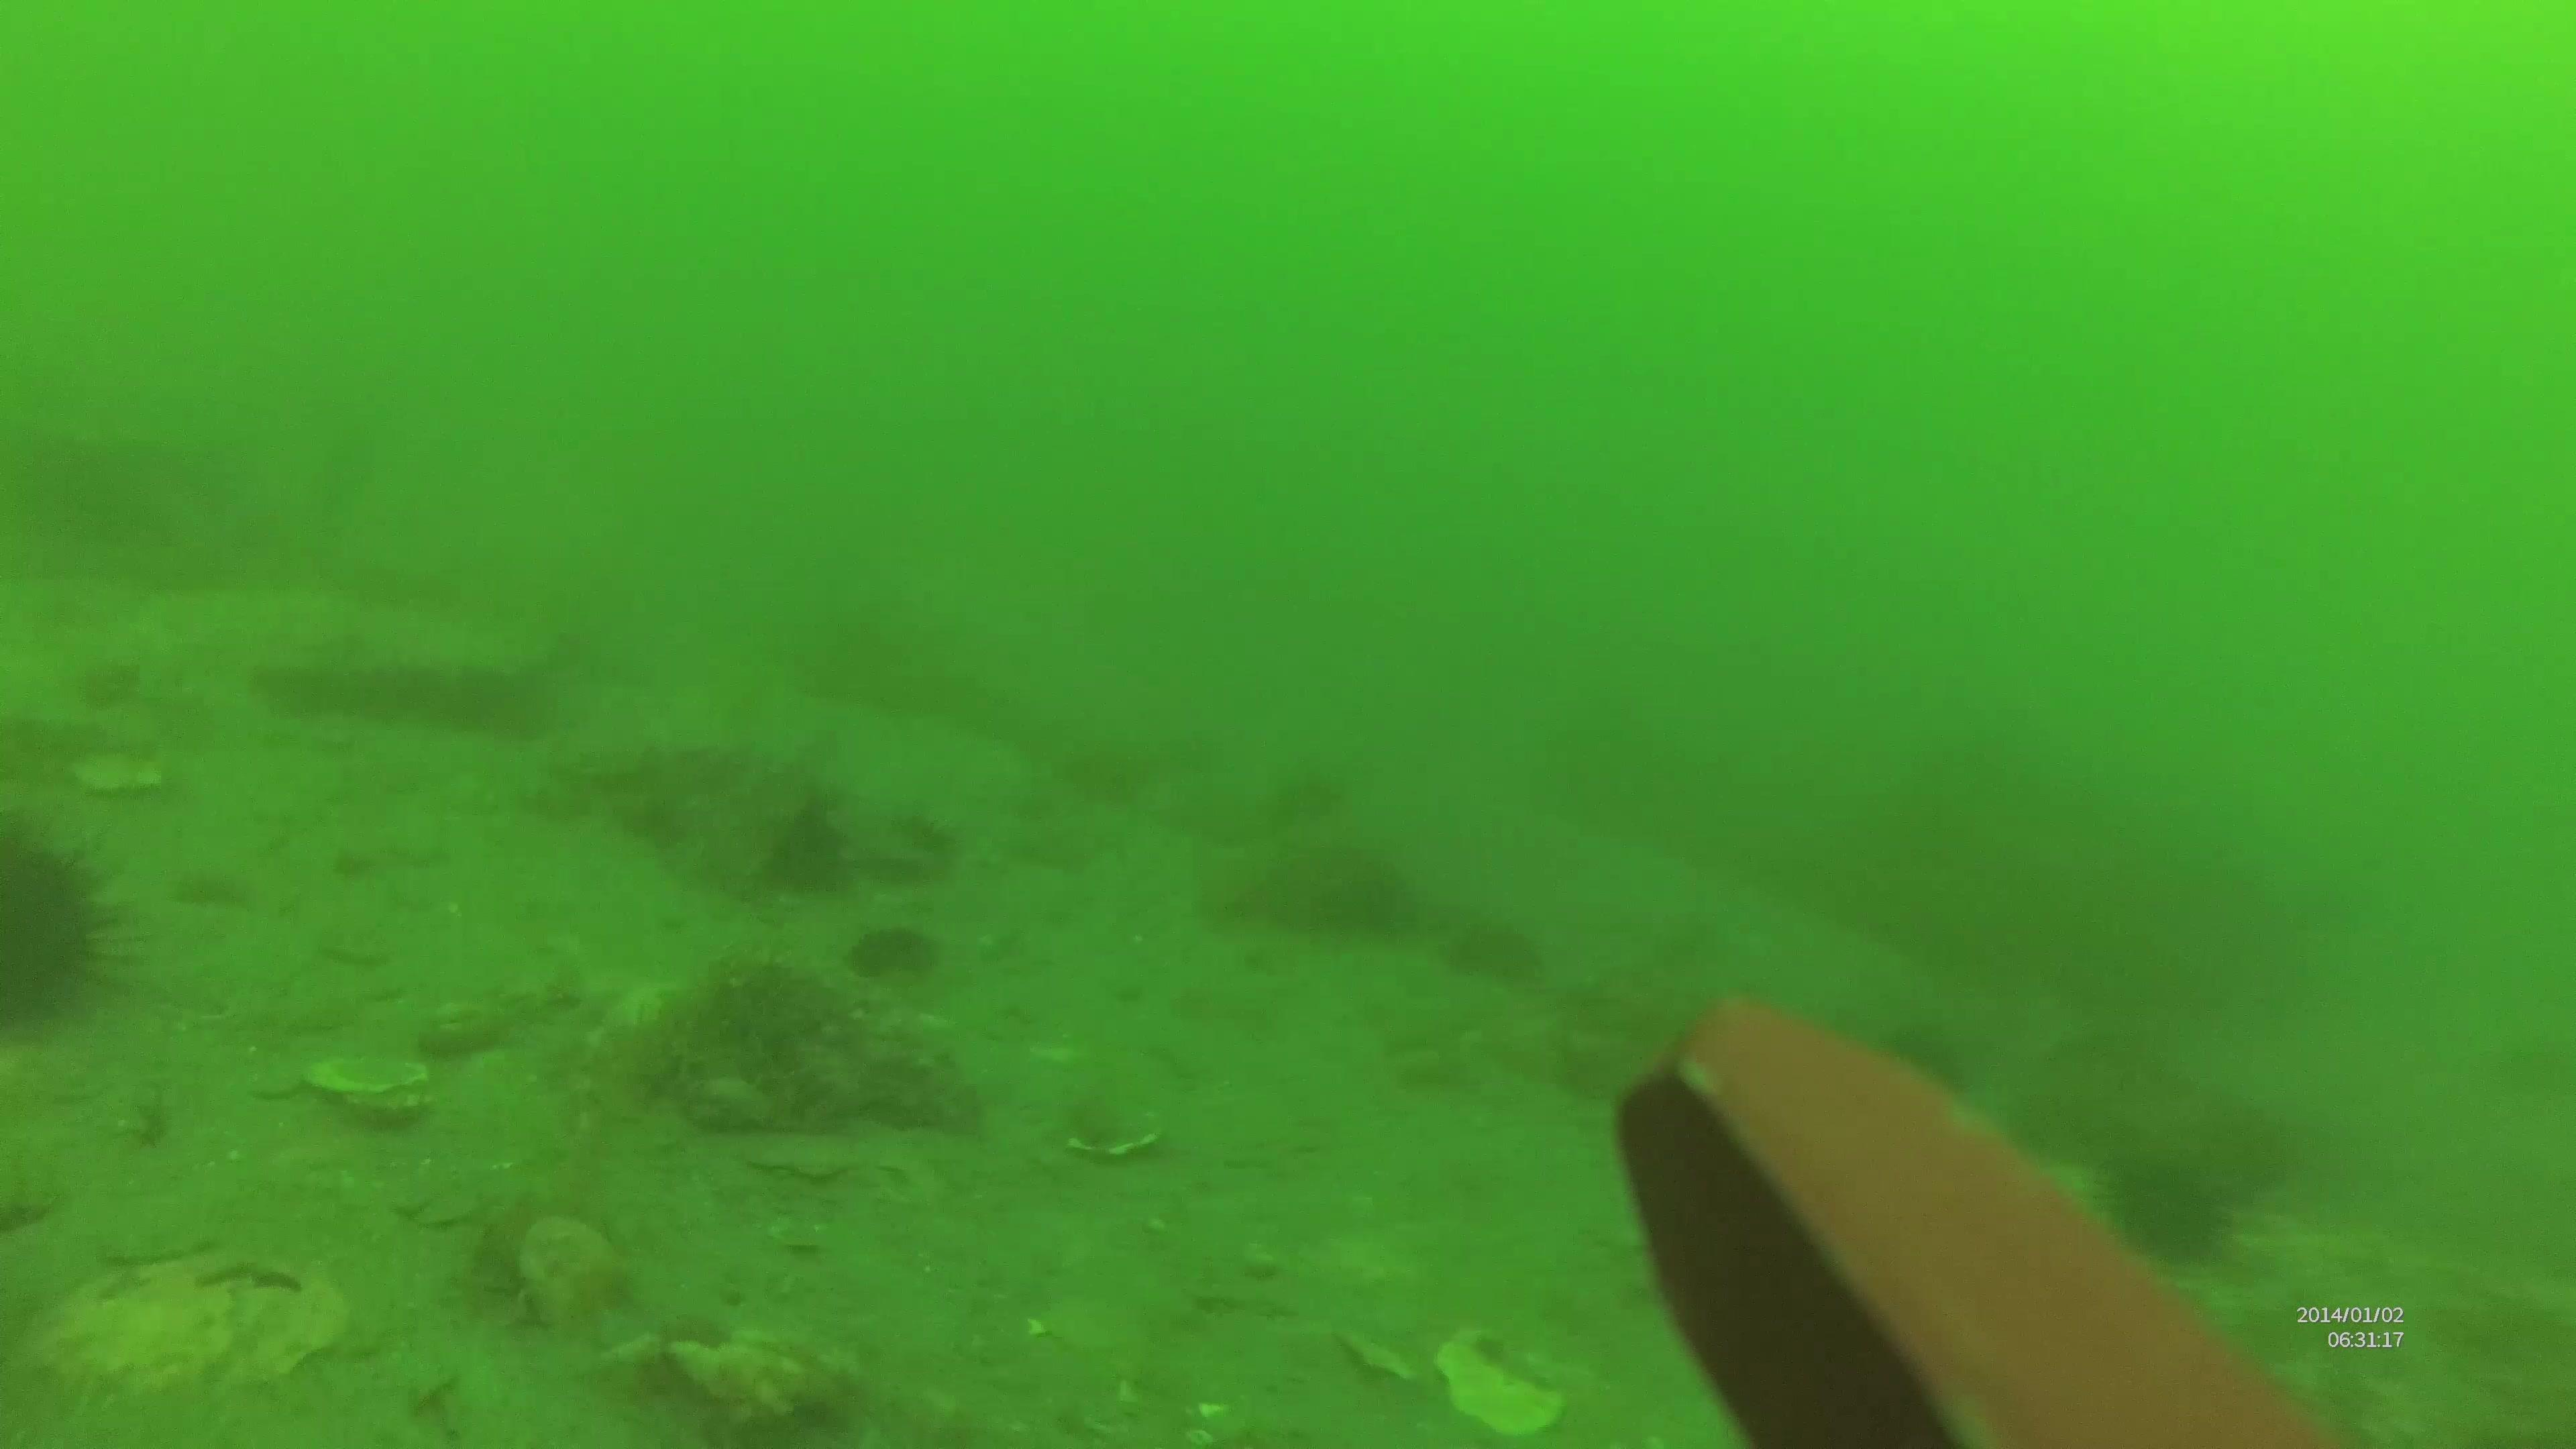echinus: (2, 814, 145, 1047), (2098, 1145, 2238, 1270)
